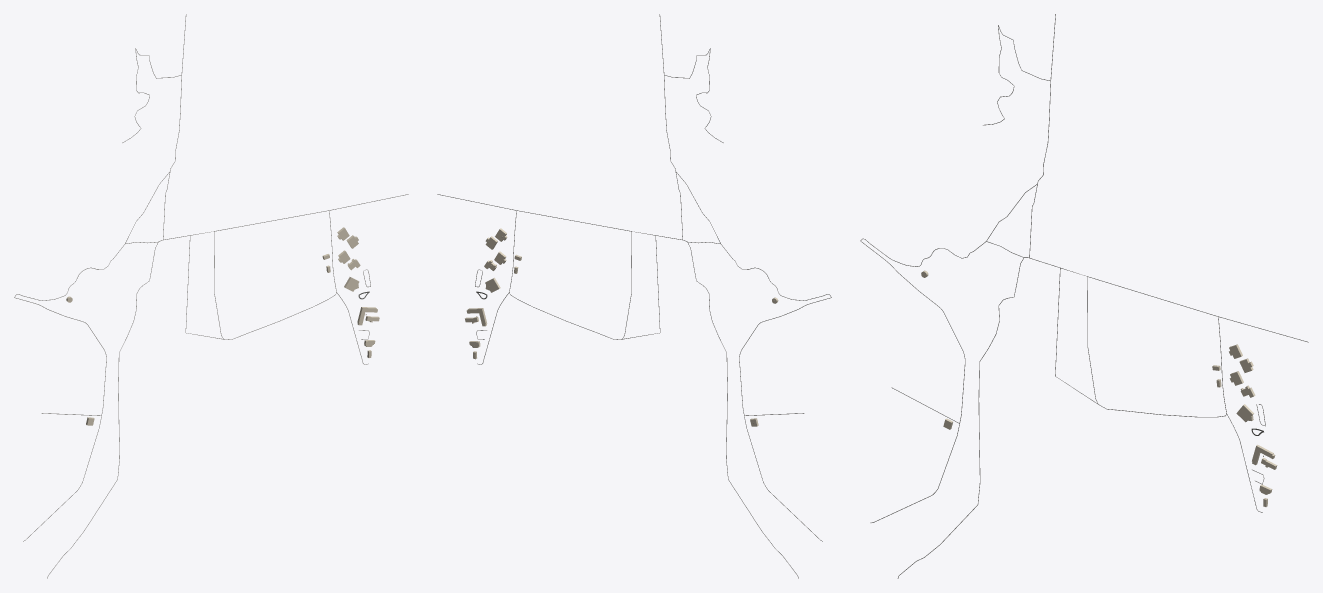
The model's file is historic-palestine-13_30_3550_3244.glb.
3 views of the same model, side by side, from view 1: azimuth 30°, elevation 25°; view 2: azimuth 150°, elevation 25°; view 3: azimuth 330°, elevation 25° (orthographic). The views are drawn at different scales.
Parts seen in each view (by area): view 1: Road .001; view 2: Road .001; view 3: Road .001.
Part boxes in pixels (x1,y1,x2,y2): Road .001: (47,211,336,578); Road .001: (509,211,798,578); Road .001: (897,257,1226,578).
Bounding box in the file's own units: 1231 × 1584 × 8.7.
